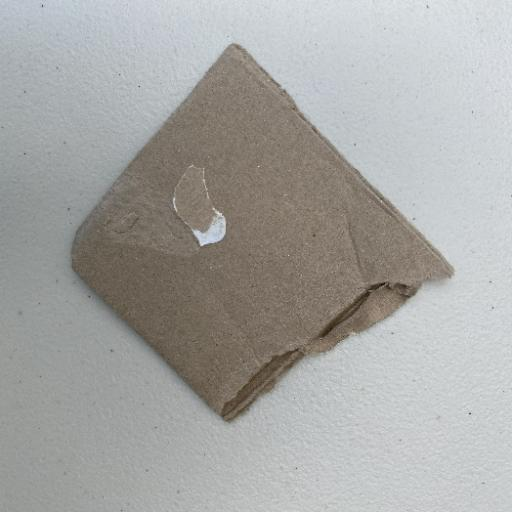Cardboard: (68, 41, 456, 423)
